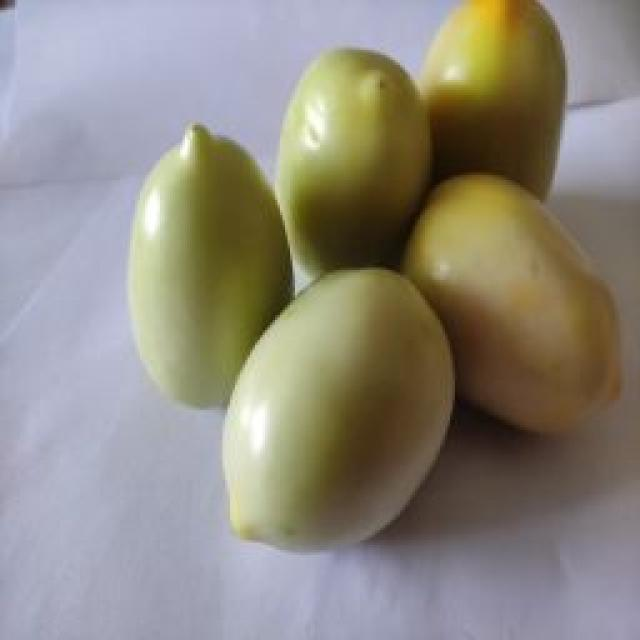tomato: (217, 267, 457, 556), (400, 171, 627, 440), (125, 122, 295, 410), (275, 44, 435, 280), (419, 0, 572, 205)
